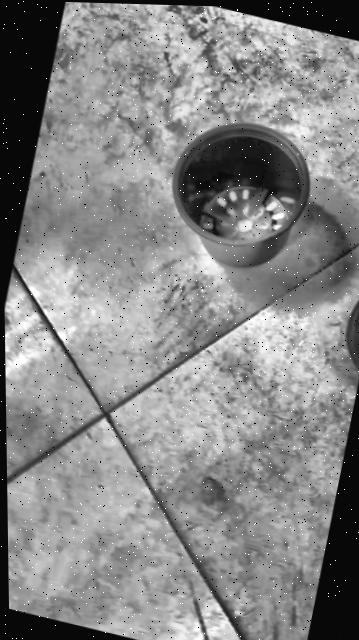pot: (155, 108, 321, 283)
